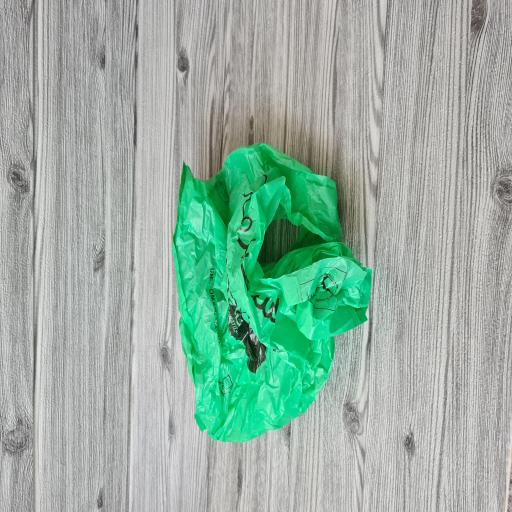plastic bag: (170, 143, 374, 447)
